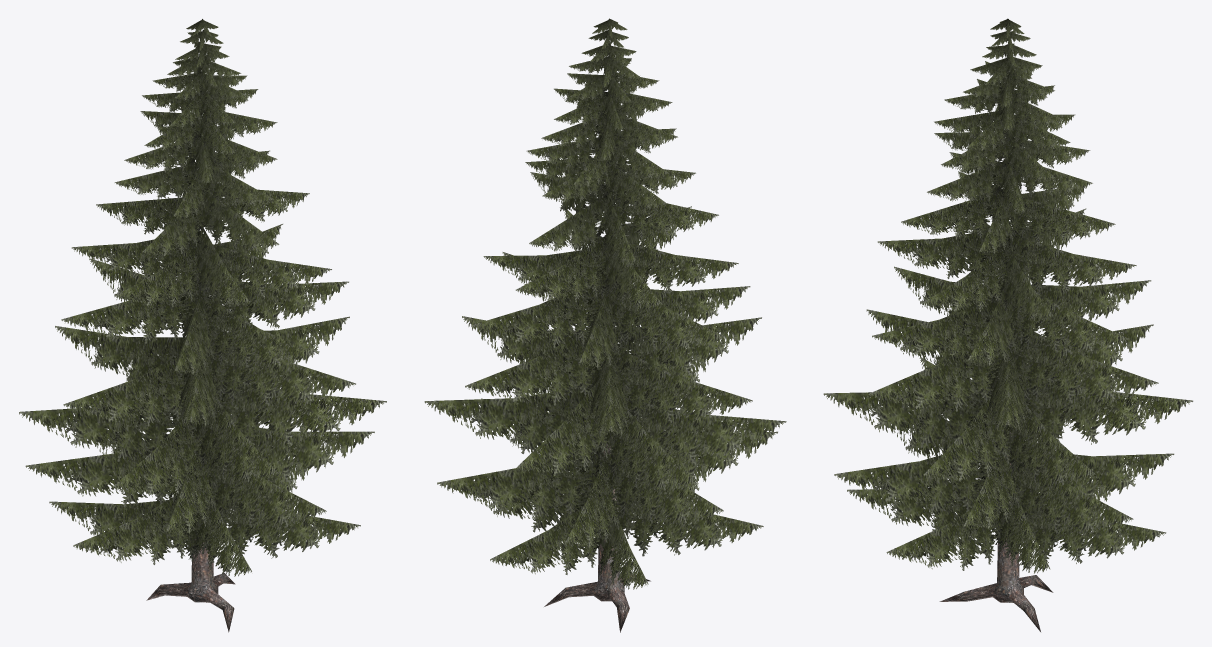
The model's file is pino.obj.
The picture shows the model from 3 angles, left to right: view 1: azimuth 30°, elevation 25°; view 2: azimuth 150°, elevation 25°; view 3: azimuth 270°, elevation 25°; orthographic projection.
Visible parts, largest first — view 1: Spruce; view 2: Spruce; view 3: Spruce.
Boxes of the visible parts, x1,y1,x2,y2 form: Spruce: (19,19,386,632); Spruce: (424,18,786,632); Spruce: (823,18,1193,631).
Bounding box in the file's own units: 6.15 × 11.53 × 6.64.
Materials: 2 (2 with a texture image).
